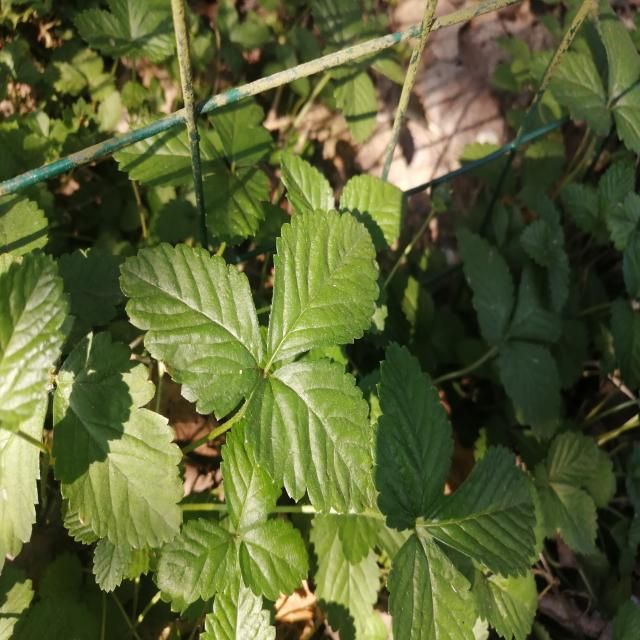Mock_strawberry: (84, 220, 407, 503), (338, 370, 571, 634)
